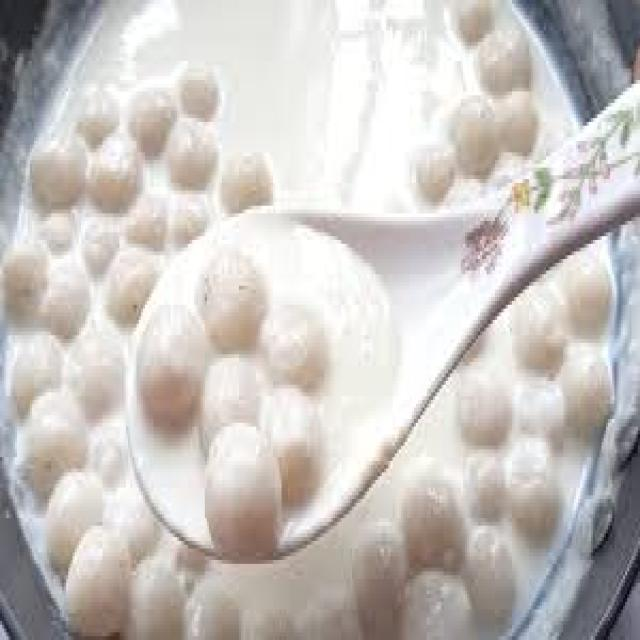paal kolukattai: (17, 0, 621, 640)
